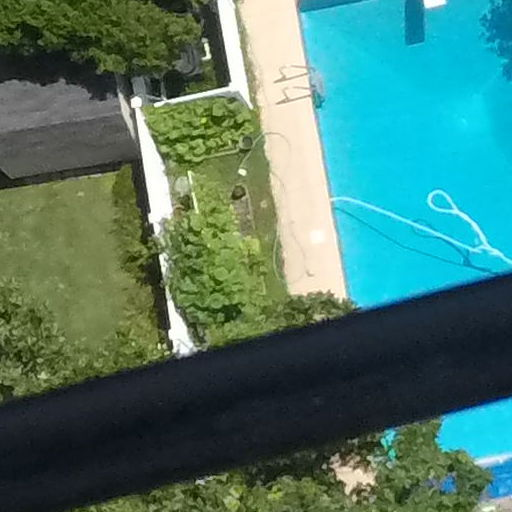flower pot: (226, 181, 250, 204)
pool: (274, 1, 512, 269)
